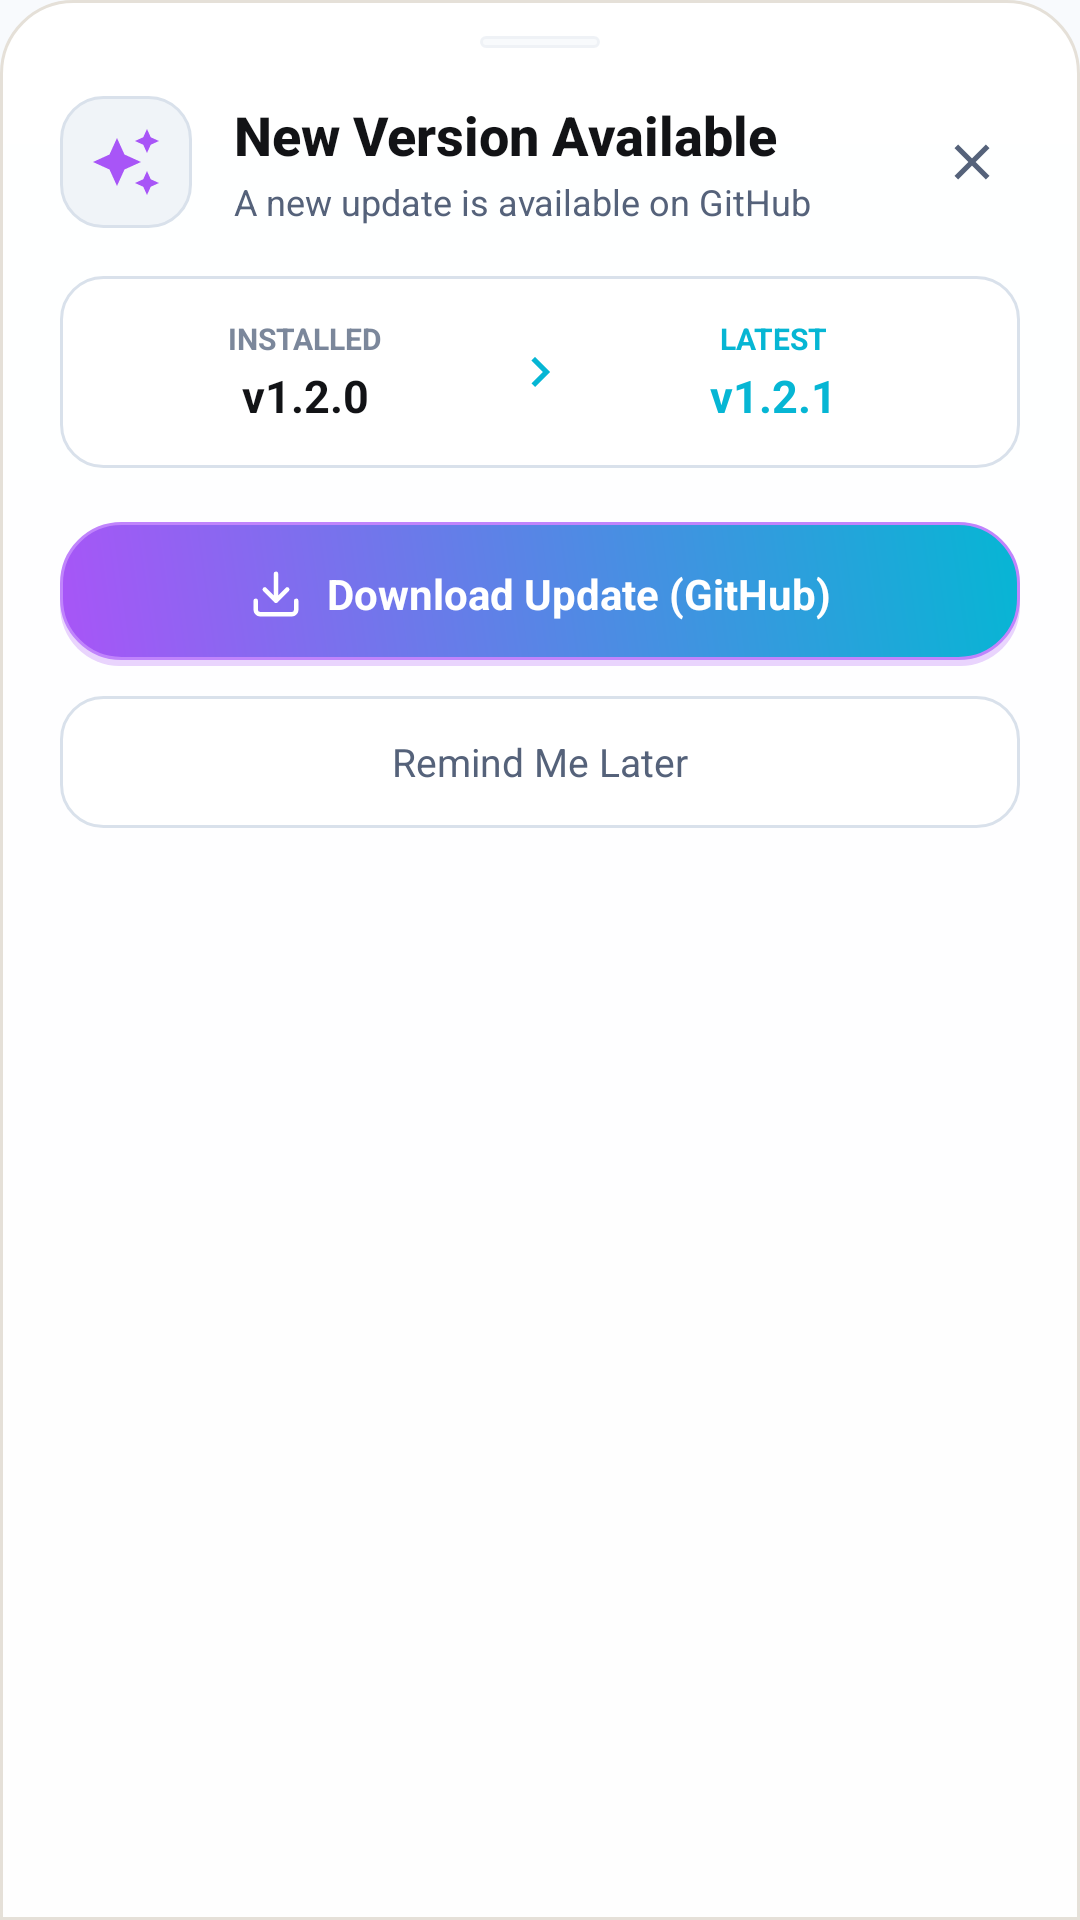

Screen size 1080px x 1920px. Icon name, then its center in pixels as (x,y):
chevron right: (540,372)
Close: (972,162)
